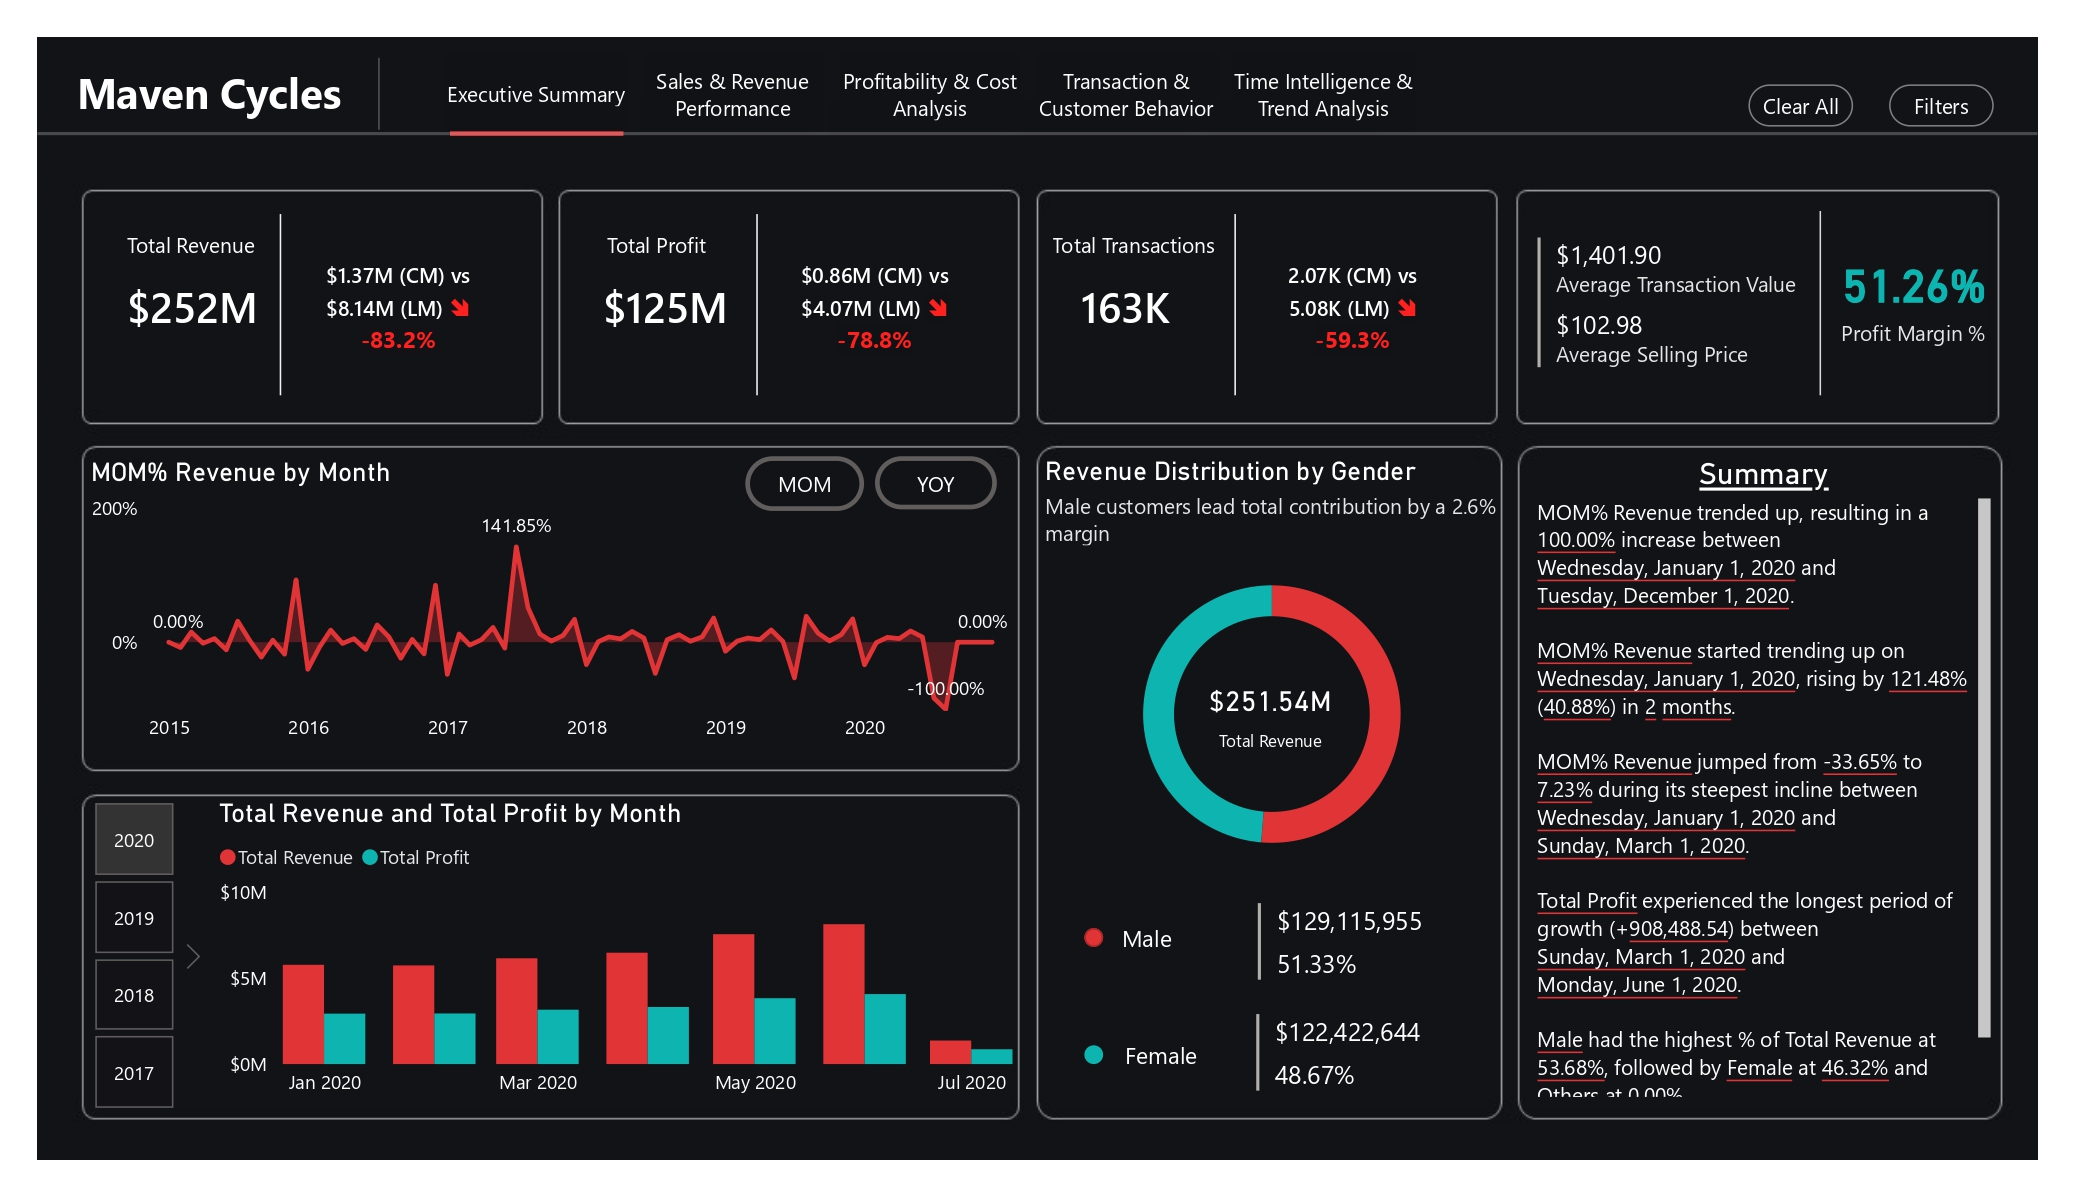

Layout of this report page (visuals, bound fields, positions):
{"tool":"powerbi","page":{"name":"Executive Summary","canvas":[1280,720],"ordinal":0},"visuals":[{"type":"actionButton","box":[21.4,4.3,201.2,61.4],"z":0},{"type":"pageNavigator","box":[264.4,40,595.2,23.8],"z":0,"group":"g1"},{"type":"pageNavigator","box":[261.2,11.4,620.6,49.2],"z":1000,"group":"g1"},{"type":"shape","box":[670,570,11.7,11.7],"z":1000},{"type":"shape","box":[196.9,12.8,42.8,45.7],"z":2000},{"type":"multiRowCard","title":"Revenue Contribution","fields":{"Values":["Measure_Table.Revenue (Male)","Measure_Table.% Revenue (Male)"]},"box":[775.6,548.9,144.4,66.7],"z":3000},{"type":"multiRowCard","fields":{"Values":["Measure_Table.Revenue (Female)","Measure_Table.% Revenue (Female)"]},"box":[775,620,145,63.3],"z":4000},{"type":"cardVisual","title":"Total Revenue","fields":{"Data":["Measure_Table.Total Revenue"]},"box":[28,96.2,295.1,150],"z":5000},{"type":"clusteredColumnChart","fields":{"Category":["DimCalendar.Start_of_Month"],"Y":["Measure_Table.Total Revenue","Measure_Table.Total Profit"]},"box":[111.1,485.7,517.5,201.6],"z":6000},{"type":"lineChart","fields":{"Category":["DimCalendar.Start_of_Month"],"Y":["Measure_Table.Revenue MoM%"]},"box":[28.6,268.3,600,192.1],"z":7000},{"type":"donutChart","title":"Revenue Distribution by Gender","fields":{"Category":["Dim_Gender.CustomerGender"],"Y":["Measure_Table.% of Total Revenue"]},"box":[639.7,266.7,300,274.6],"z":9000},{"type":"actionButton","box":[535.6,267.8,78.2,34.5],"z":10000},{"type":"actionButton","box":[452.9,267.8,75.9,35.6],"z":11000},{"type":"cardVisual","title":"Total Revenue","fields":{"Data":["Measure_Table.Total Profit"]},"box":[333.3,96.2,294.9,150],"z":12000},{"type":"cardVisual","title":"Total Revenue","fields":{"Data":["Measure_Table.Total Transactions"]},"box":[639.3,96.4,294.6,150],"z":13000},{"type":"actionButton","box":[47.7,112.3,100,40],"z":14000},{"type":"actionButton","box":[346.2,112.3,100,40],"z":15000},{"type":"actionButton","box":[629.2,112.3,144.6,40],"z":16000},{"type":"slicer","fields":{"Values":["DimCalendar.Year"]},"box":[11.1,482.5,100,209.5],"z":17000},{"type":"shape","box":[670,645,11.7,11.7],"z":18000},{"type":"actionButton","box":[690,553.3,50,45],"z":19000},{"type":"actionButton","box":[691.7,628.3,70,45],"z":20000},{"type":"card","fields":{"Values":["Measure_Table.Total Revenue"]},"box":[735,401.7,108.3,61.7],"z":21000},{"type":"textbox","title":"Summary","box":[955.3,268.1,300,414.9],"z":22000},{"type":"card","fields":{"Values":["Measure_Table.Profit Margin %"]},"box":[1145.5,113.1,110.1,105.1],"z":23000},{"type":"multiRowCard","fields":{"Values":["Measure_Table.Average Transaction Value","Measure_Table.Average Selling Price"]},"box":[955.3,123.4,178.7,106.4],"z":24000},{"type":"shape","box":[1119.2,111.1,43.4,118.2],"z":25000},{"type":"group","id":"g1","title":"Group 1","box":[261.2,11.4,620.6,52.4],"z":26000},{"type":"actionButton","box":[1184.6,29.9,67.2,26.9],"z":27000},{"type":"actionButton","box":[1095,29.9,67.2,26.9],"z":28000},{"type":"shape","box":[0,53,1280,17],"z":29001}]}

Visuals, with their boxes on the page's 1280x720 design canvas (x1, y1, x2, y2). These are canvas units, not pixel positions in the 2075x1200 screenshot, which may show the page scaled, cropped or inside an application window:
actionButton: crop(21, 4, 223, 66)
pageNavigator: crop(264, 40, 860, 64)
pageNavigator: crop(261, 11, 882, 61)
shape: crop(670, 570, 682, 582)
shape: crop(197, 13, 240, 58)
"Revenue Contribution" multiRowCard: crop(776, 549, 920, 616)
multiRowCard - Measure_Table.Revenue (Female) x Measure_Table.% Revenue (Female): crop(775, 620, 920, 683)
"Total Revenue" cardVisual: crop(28, 96, 323, 246)
clusteredColumnChart - DimCalendar.Start_of_Month x Measure_Table.Total Revenue: crop(111, 486, 629, 687)
lineChart - DimCalendar.Start_of_Month x Measure_Table.Revenue MoM%: crop(29, 268, 629, 460)
"Revenue Distribution by Gender" donutChart: crop(640, 267, 940, 541)
actionButton: crop(536, 268, 614, 302)
actionButton: crop(453, 268, 529, 303)
"Total Revenue" cardVisual: crop(333, 96, 628, 246)
"Total Revenue" cardVisual: crop(639, 96, 934, 246)
actionButton: crop(48, 112, 148, 152)
actionButton: crop(346, 112, 446, 152)
actionButton: crop(629, 112, 774, 152)
slicer - DimCalendar.Year: crop(11, 482, 111, 692)
shape: crop(670, 645, 682, 657)
actionButton: crop(690, 553, 740, 598)
actionButton: crop(692, 628, 762, 673)
card - Measure_Table.Total Revenue: crop(735, 402, 843, 463)
"Summary" textbox: crop(955, 268, 1255, 683)
card - Measure_Table.Profit Margin %: crop(1146, 113, 1256, 218)
multiRowCard - Measure_Table.Average Transaction Value x Measure_Table.Average Selling Price: crop(955, 123, 1134, 230)
shape: crop(1119, 111, 1163, 229)
"Group 1" group: crop(261, 11, 882, 64)
actionButton: crop(1185, 30, 1252, 57)
actionButton: crop(1095, 30, 1162, 57)
shape: crop(0, 53, 1280, 70)
